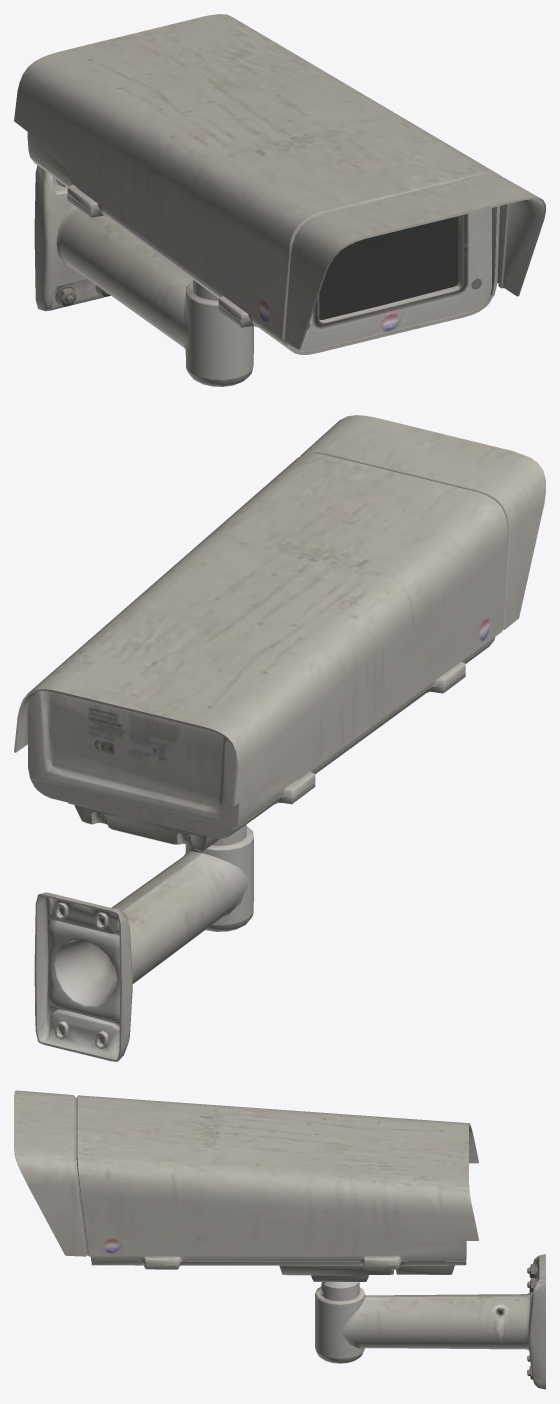
The model's file is security_camera_02.glb.
The picture shows the model from 3 angles, top to bottom: view 1: azimuth 30°, elevation 25°; view 2: azimuth 150°, elevation 25°; view 3: azimuth 270°, elevation 25°; orthographic projection. The views are drawn at different scales.
Parts seen in each view (by area): view 1: security_camera_02_mount, security_camera_02; view 2: security_camera_02_mount; view 3: security_camera_02_mount.
Part boxes in pixels (x1,y1,x2,y2): security_camera_02_mount: [14, 14, 545, 386]; security_camera_02: [319, 216, 458, 319]; security_camera_02_mount: [14, 415, 545, 1061]; security_camera_02_mount: [14, 1090, 545, 1389].
Bounding box in the file's own units: 0.1406 × 0.2086 × 0.3937.
2 materials, 2 textured.
